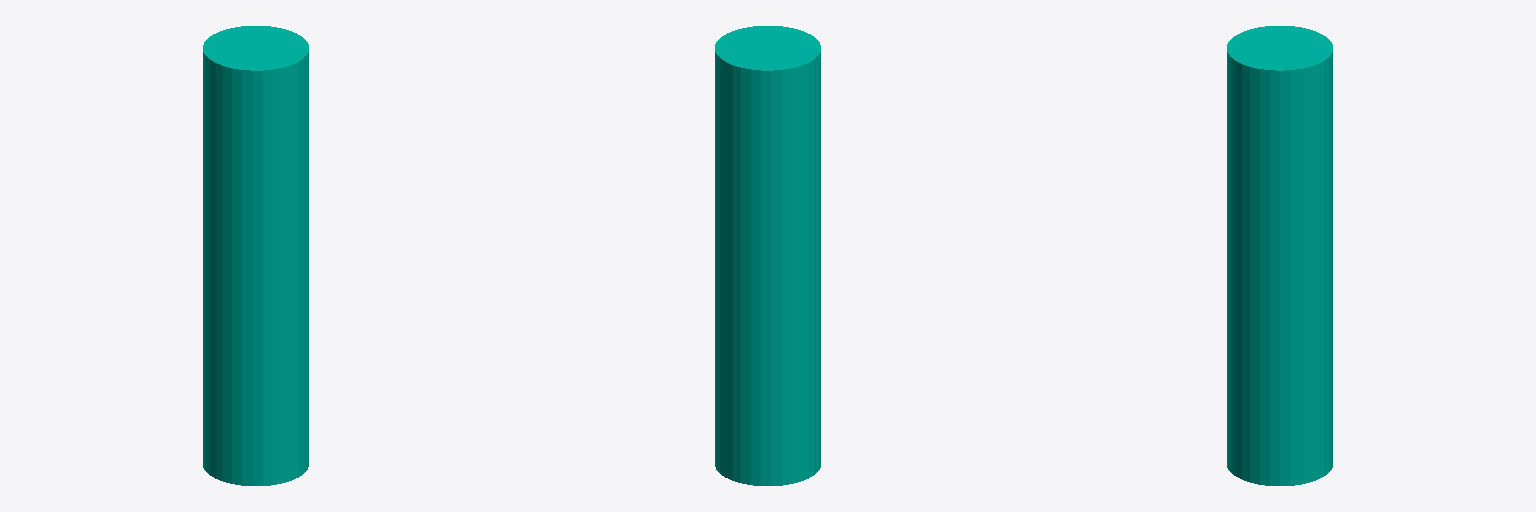
Rendered from try2.obj.
3 renders of one model, left to right at view 1: azimuth 30°, elevation 25°; view 2: azimuth 150°, elevation 25°; view 3: azimuth 270°, elevation 25°, orthographic.
Parts seen in each view (by area): view 1: Cylinder; view 2: Cylinder; view 3: Cylinder.
Part boxes in pixels (x1,y1,x2,y2): Cylinder: (203, 26, 308, 485); Cylinder: (715, 26, 820, 485); Cylinder: (1227, 26, 1332, 485).
Bounding box in the file's own units: 3.69 × 15.85 × 3.69.